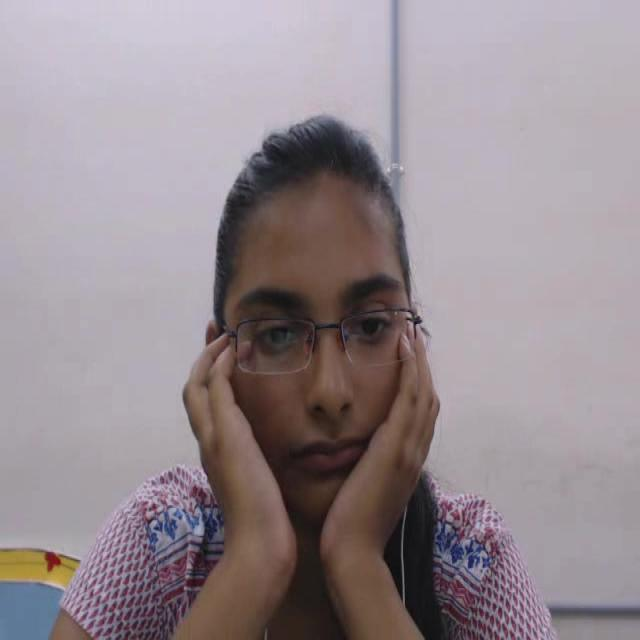Bored: (180, 104, 454, 556)
